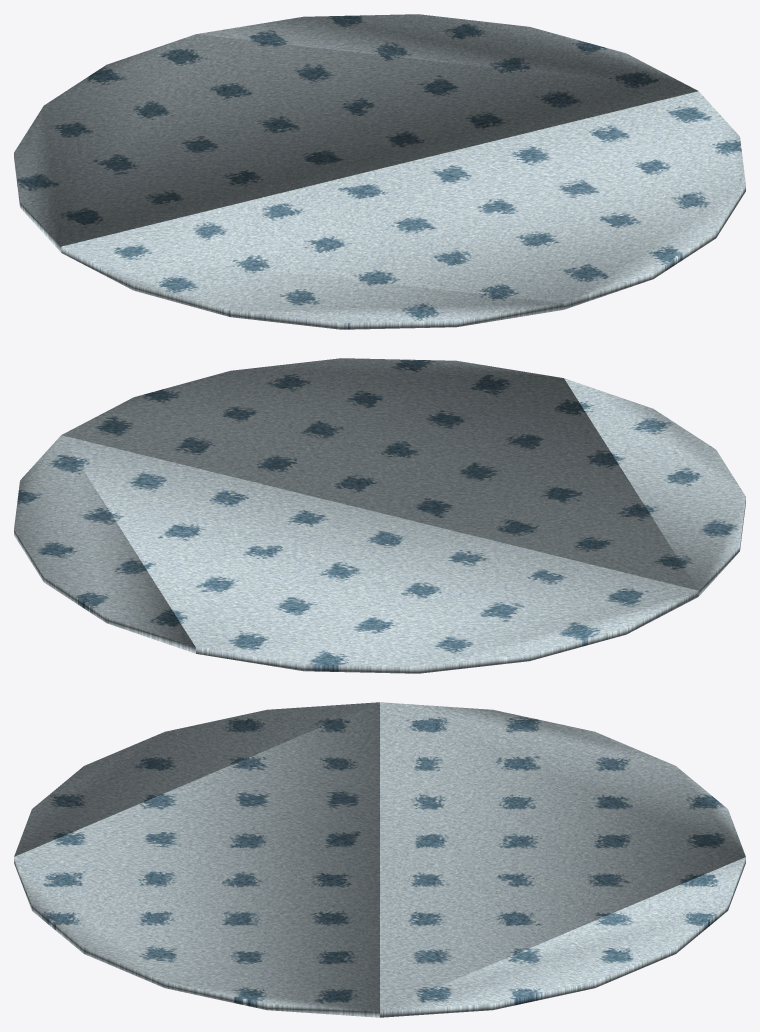
The model's file is carpet.glb.
3 renders of one model, top to bottom at view 1: azimuth 30°, elevation 25°; view 2: azimuth 150°, elevation 25°; view 3: azimuth 270°, elevation 25°, orthographic.
Parts seen in each view (by area): view 1: Plane; view 2: Plane; view 3: Plane.
Part boxes in pixels (x1=…): Plane: x1=14, y1=14, x2=745, y2=329; Plane: x1=14, y1=358, x2=745, y2=673; Plane: x1=14, y1=702, x2=745, y2=1017.
Size of the model in its own units: 9.47 by 0.0885 by 9.47.
Materials: 1 (1 with a texture image).
